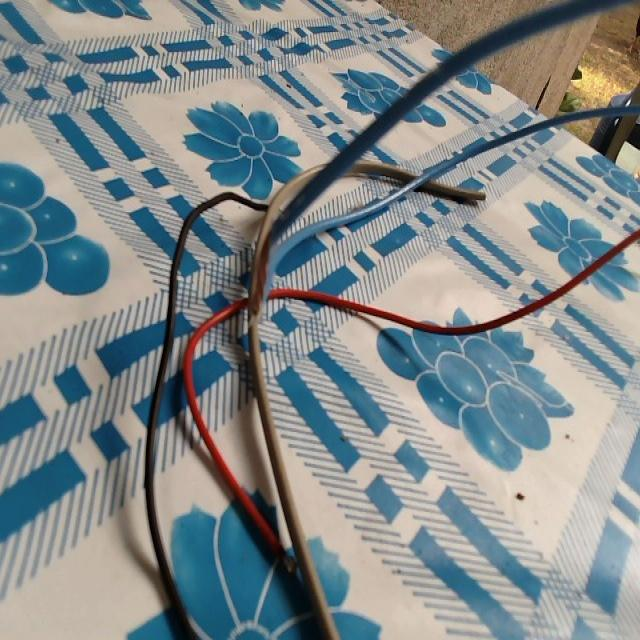-: (246, 227, 273, 328)
